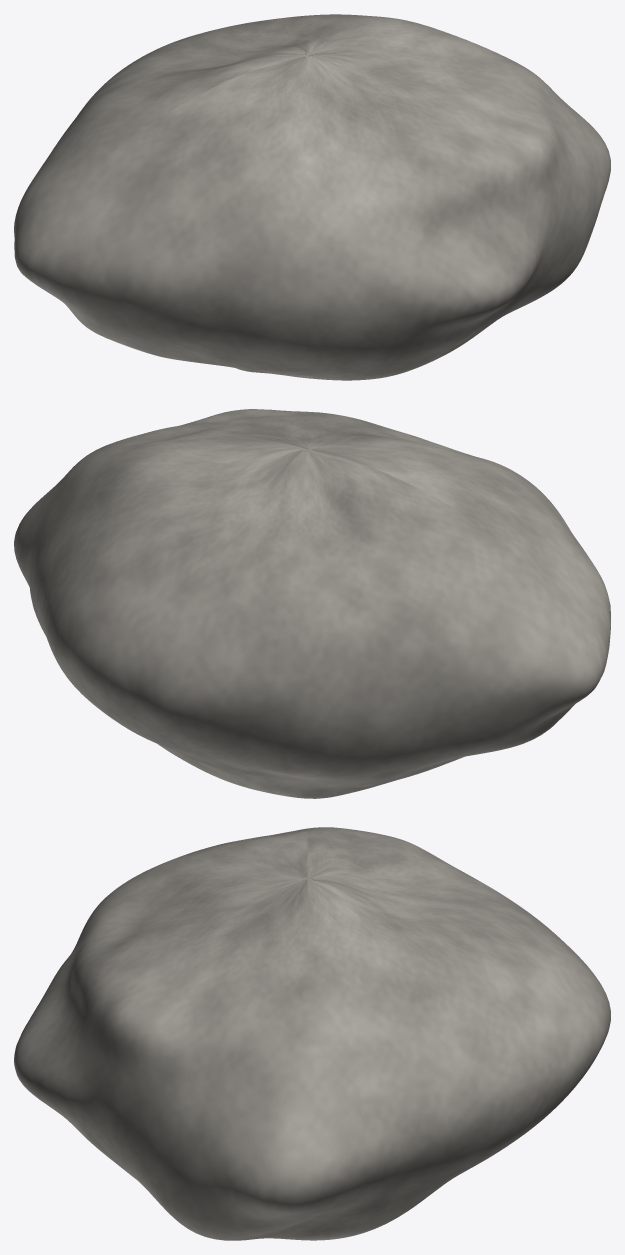
3 renders of one model, top to bottom at view 1: azimuth 30°, elevation 25°; view 2: azimuth 150°, elevation 25°; view 3: azimuth 270°, elevation 25°, orthographic. The views are drawn at different scales.
Parts seen in each view (by area): view 1: Daphnis; view 2: Daphnis; view 3: Daphnis.
Part boxes in pixels (x1,y1,x2,y2): Daphnis: [14, 14, 610, 380]; Daphnis: [14, 409, 610, 798]; Daphnis: [14, 827, 610, 1240].
Bounding box in the file's own units: 11.18 × 5.88 × 9.71.
Materials: 1 (1 with a texture image).
